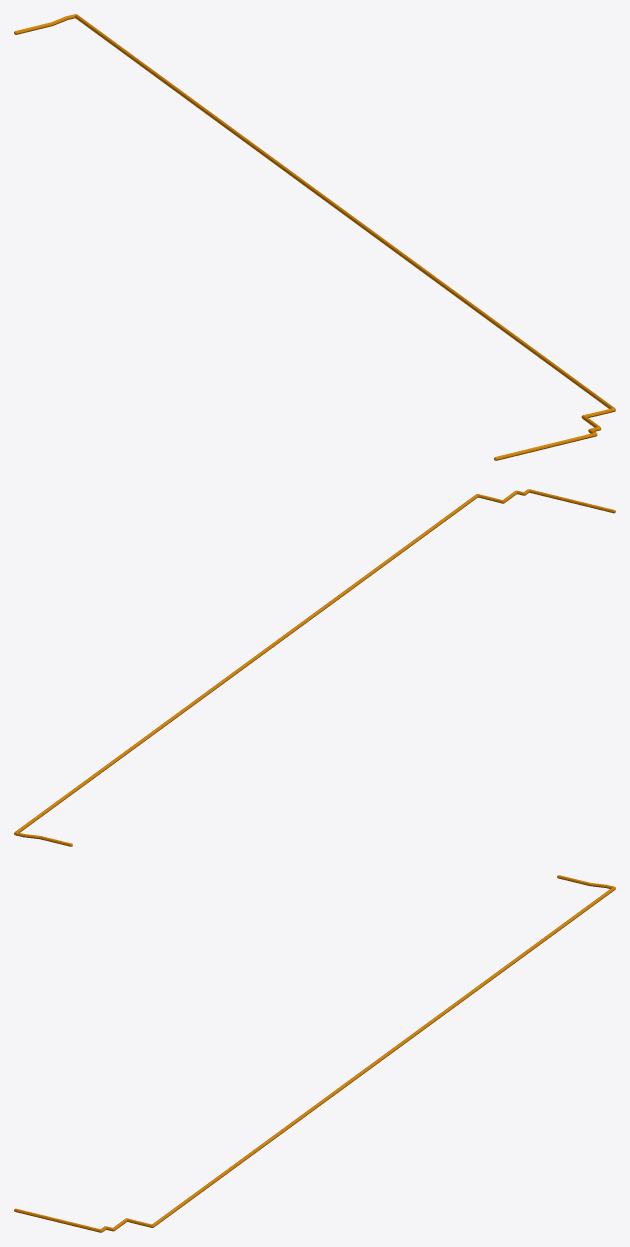
3 views of the same model, one above another, from view 1: azimuth 30°, elevation 25°; view 2: azimuth 150°, elevation 25°; view 3: azimuth 330°, elevation 25° (orthographic). The views are drawn at different scales.
Size of the model in its own units: 786 by 20 by 5368.
